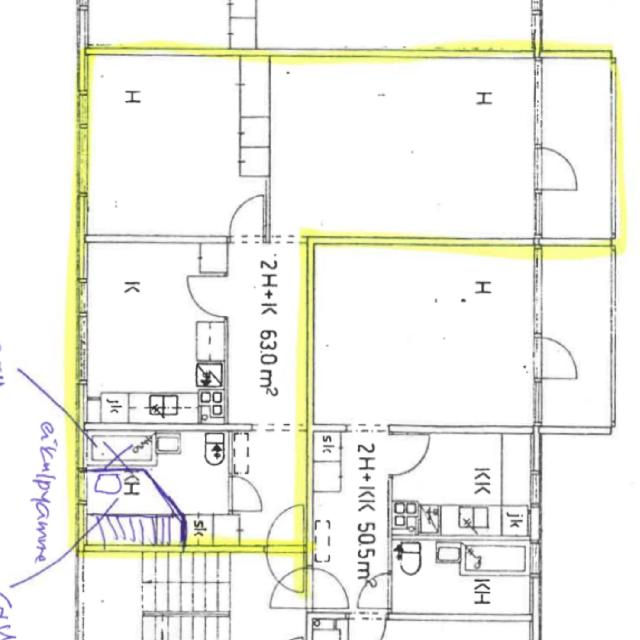door: (152, 453, 205, 510), (534, 147, 584, 191), (266, 544, 304, 594), (266, 502, 304, 552), (186, 276, 229, 318), (230, 198, 264, 243), (230, 474, 268, 510)
